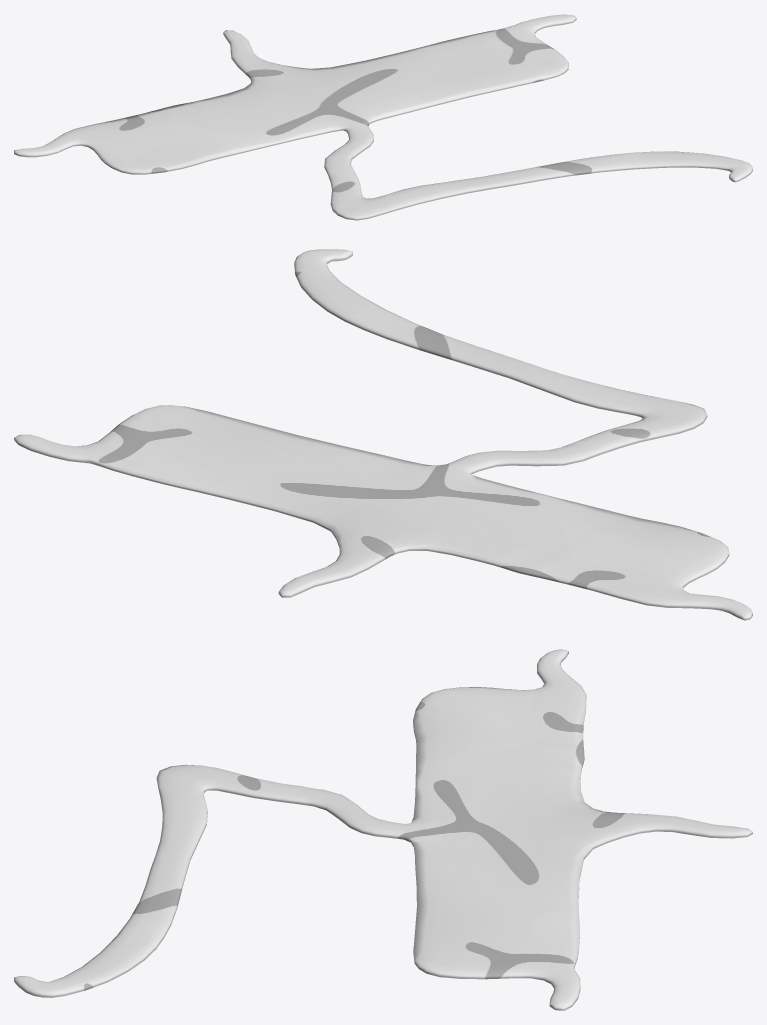
The model's file is dirtGround.fbx.
3 views of the same model, one above another, from view 1: azimuth 30°, elevation 25°; view 2: azimuth 150°, elevation 25°; view 3: azimuth 270°, elevation 25° (orthographic). The views are drawn at different scales.
Visible parts, largest first — view 1: dirtGround; view 2: dirtGround; view 3: dirtGround.
Boxes of the visible parts, x1,y1,x2,y2 form: dirtGround: [14, 14, 752, 220]; dirtGround: [14, 249, 752, 620]; dirtGround: [14, 649, 752, 1010].
Size of the model in its own units: 5426 by 33.06 by 4721.
Materials: 1 (1 with a texture image).
